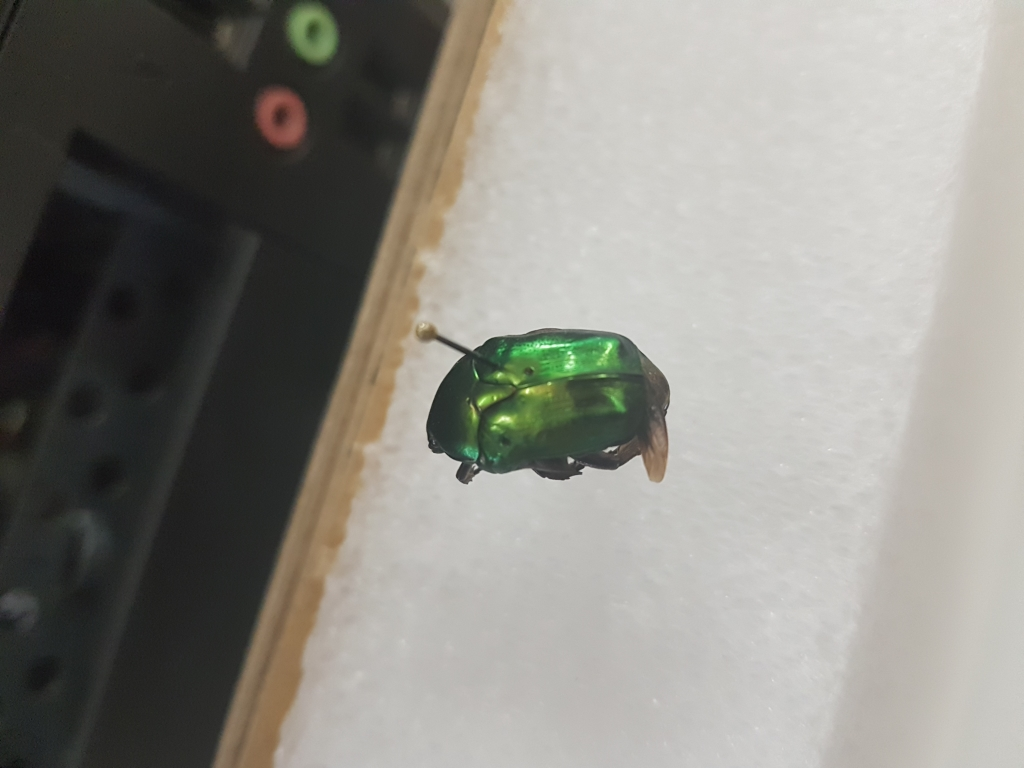Protaetia_cuprea_ignicollis: (419, 314, 682, 498)
